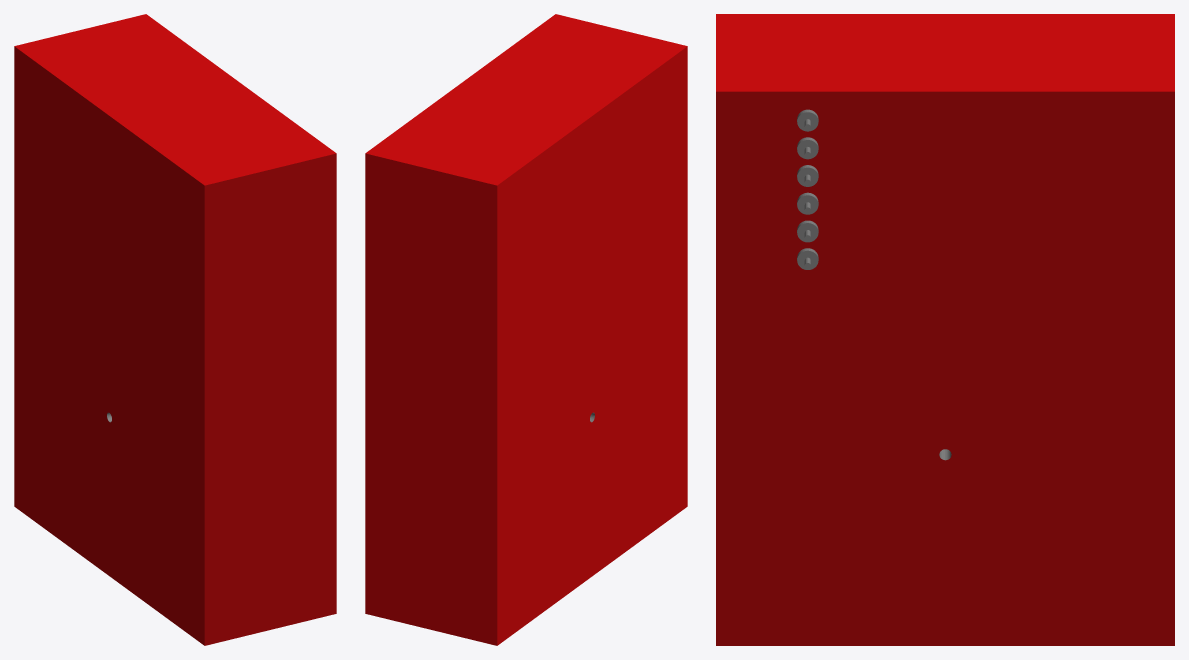
The model's file is panel.dae.
3 views of the same model, side by side, from view 1: azimuth 30°, elevation 25°; view 2: azimuth 150°, elevation 25°; view 3: azimuth 270°, elevation 25° (orthographic). The views are drawn at different scales.
Visible parts, largest first — view 1: node; view 2: node; view 3: node.
Part boxes in pixels (left/top/right/bottom): node: left=14, top=14, right=336, bottom=645; node: left=365, top=14, right=687, bottom=645; node: left=716, top=14, right=1174, bottom=645.
Bounding box in the file's own units: 330 × 1000 × 750.
